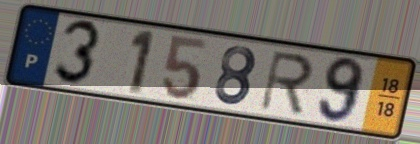1: (128, 28, 159, 97)
3: (49, 19, 106, 90)
5: (160, 32, 211, 103)
8: (213, 44, 259, 108)
9: (317, 55, 370, 127)
R: (257, 49, 317, 117)
